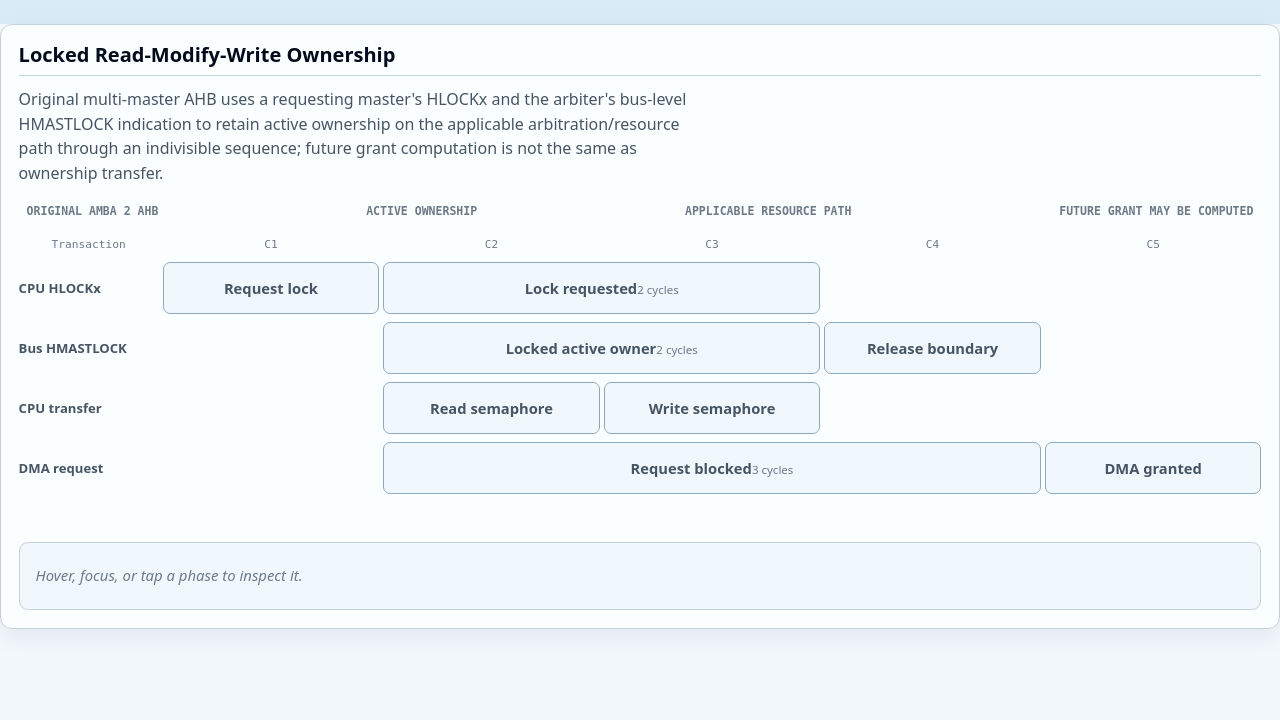
production visual rendering › explains a blocked requester from the locked-sequence timeline
The width and height of the screenshot is (1280, 720).
Expected: the heading "Locked Read-Modify-Write Ownership" is shown, [19,43,1261,76]
Focus the button with aria-label "DMA request: Request blocked, cycles 2 to 5" at (712, 468), box [383,442,1041,494]
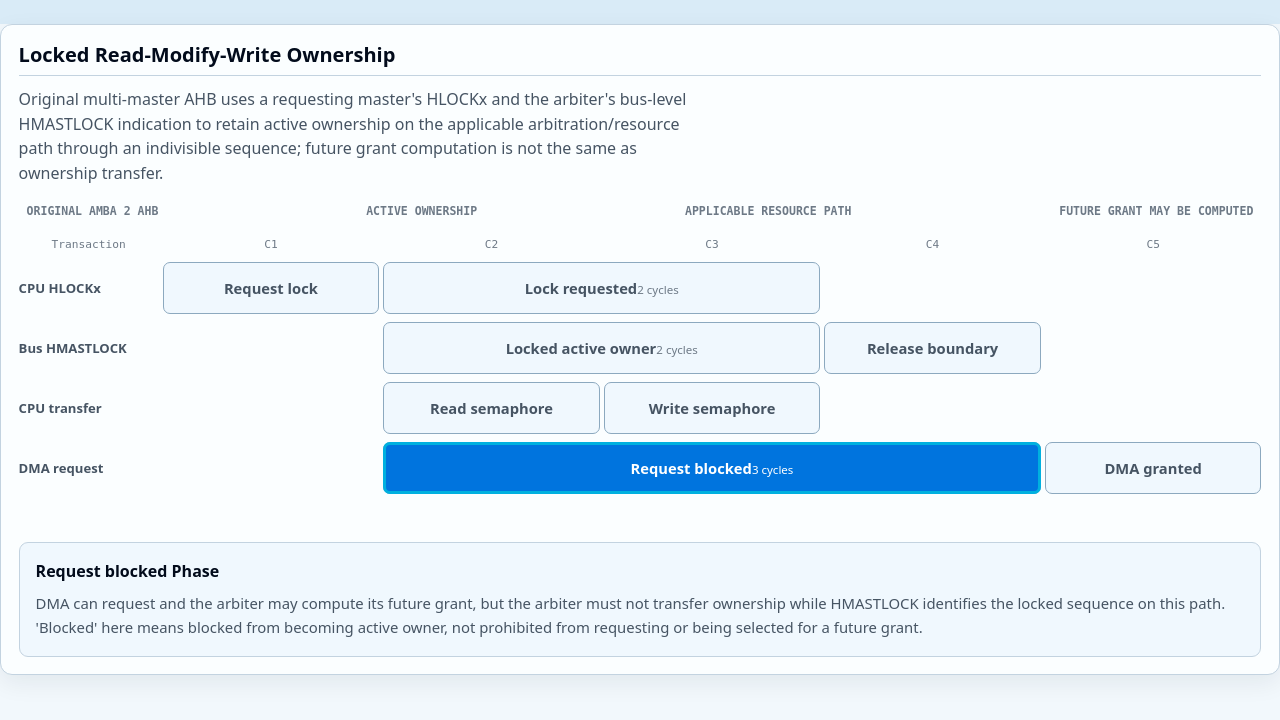
Expected: the text "must not transfer ownership" is shown, [36,593,1225,637]
